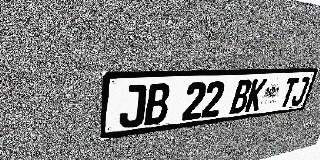2: (182, 81, 208, 121), (201, 81, 226, 118)
B: (144, 83, 171, 126), (229, 79, 253, 114)
J: (119, 84, 147, 129), (290, 77, 311, 106)
K: (244, 79, 268, 112)
T: (278, 77, 300, 108)
